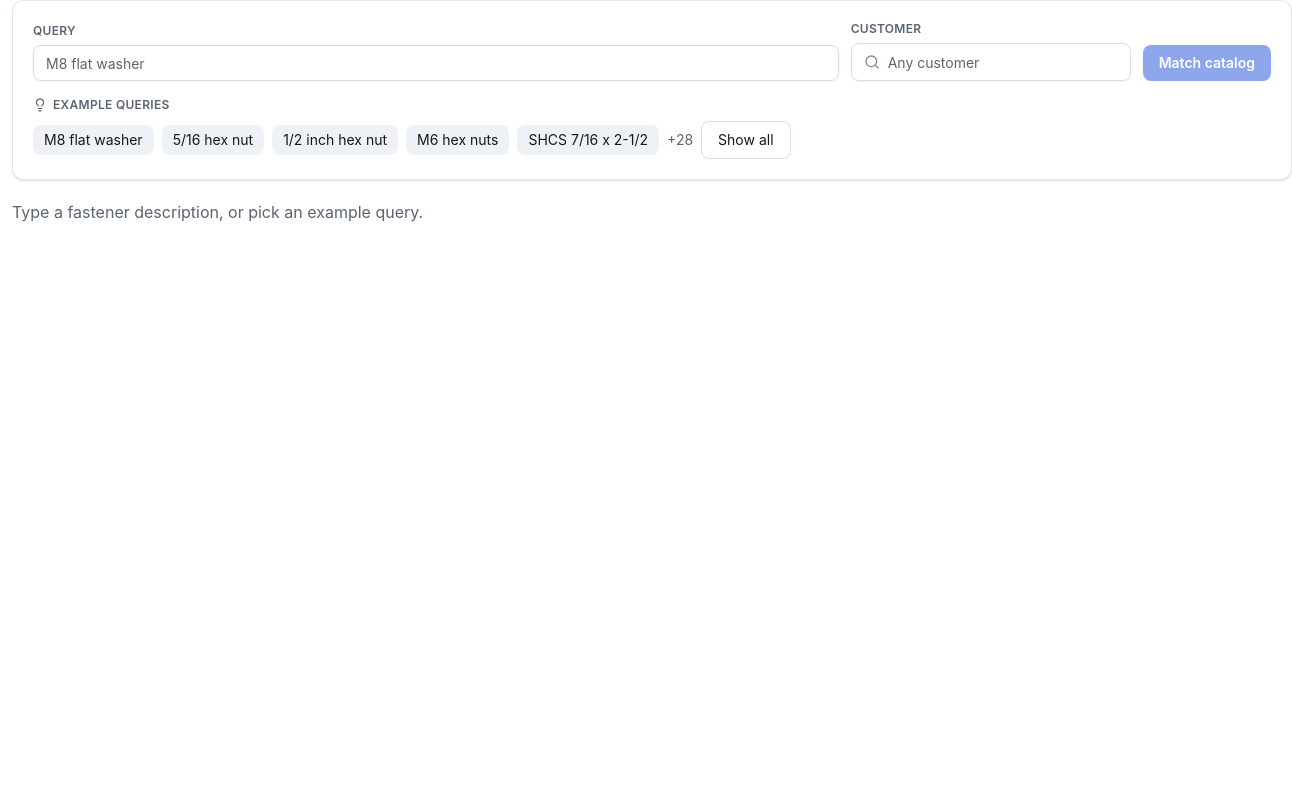
Scenario: ResultsPanel › explains an empty compatible set and offers the alternatives under their own heading
Type "M8 x 45mm SHCS" into the field labelled "Query". click: x=436, y=63
box: top-left (33, 45), bottom-right (839, 81)
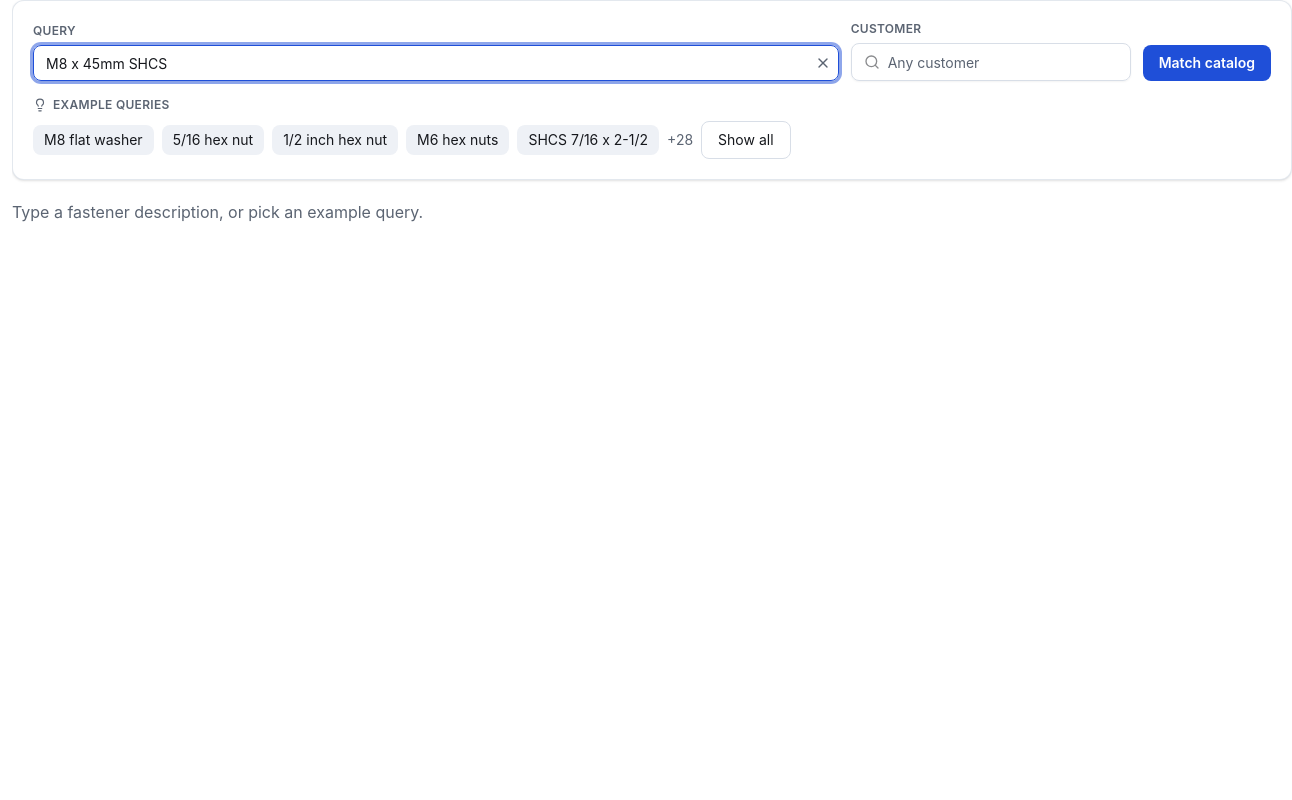
Click the button "Match catalog". click: x=1207, y=63
box: top-left (1143, 45), bottom-right (1271, 81)
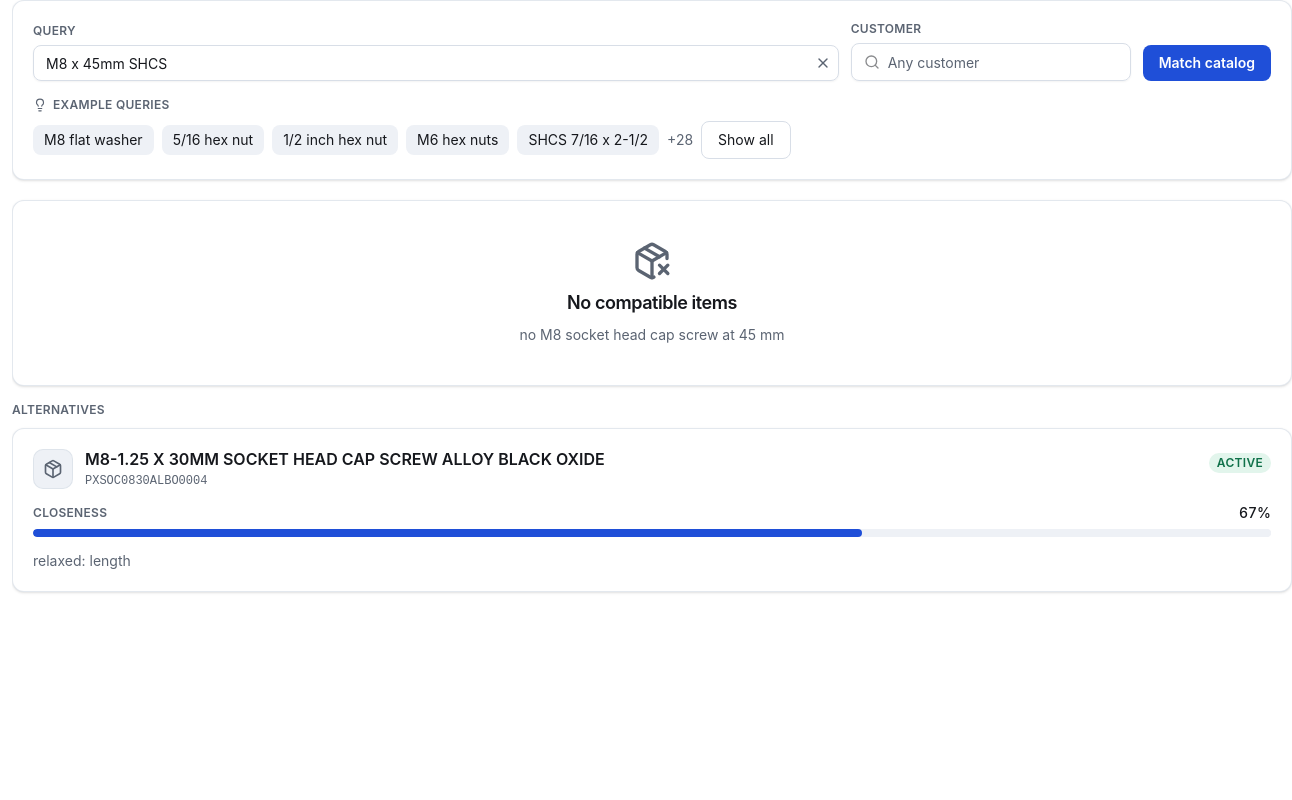
Check: the text "no M8 socket head cap screw at 45 mm" is shown, box top-left (520, 325), bottom-right (785, 345)
Check: the heading "No compatible items" is shown, box top-left (567, 289), bottom-right (737, 317)
Check: the text "relaxed: length" is shown, box top-left (33, 552), bottom-right (131, 569)
